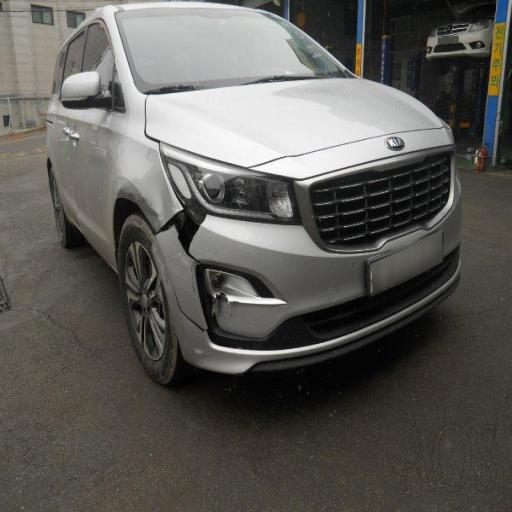broken: (130, 167, 287, 361), (349, 226, 456, 300)
